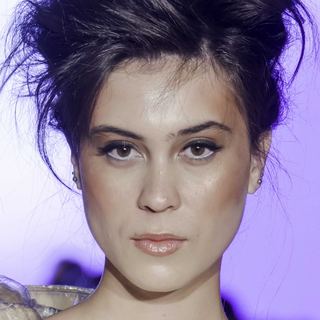eye: (175, 136, 224, 163), (96, 139, 144, 164)
